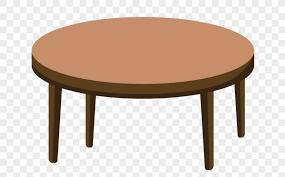desk: (21, 9, 262, 172)
